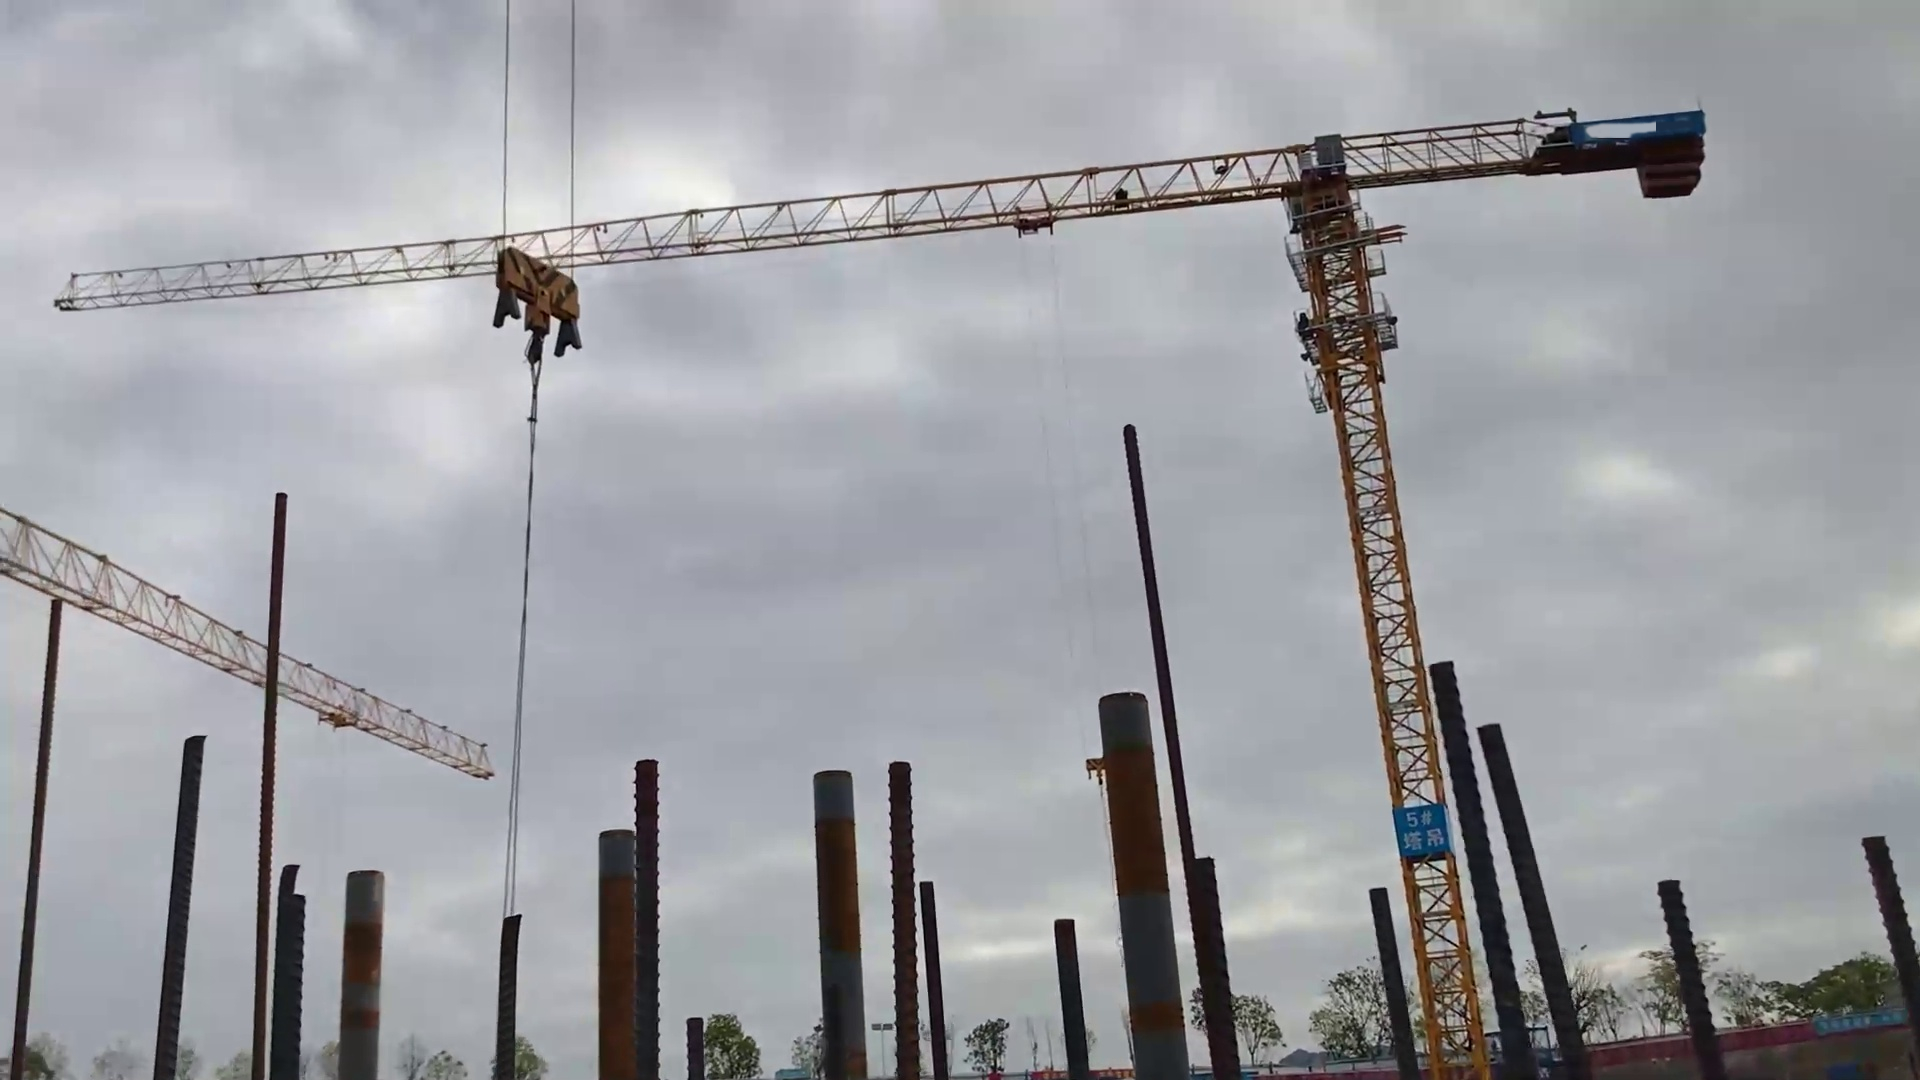fence: (1593, 1015, 1698, 1077)
hook: (475, 243, 607, 371)
slogan: (1808, 1001, 1920, 1044), (1386, 799, 1455, 865)
